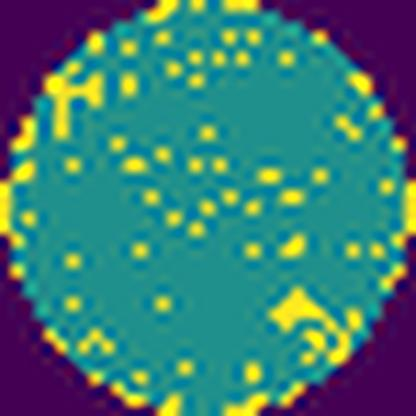Loc: (270, 286, 344, 347)
